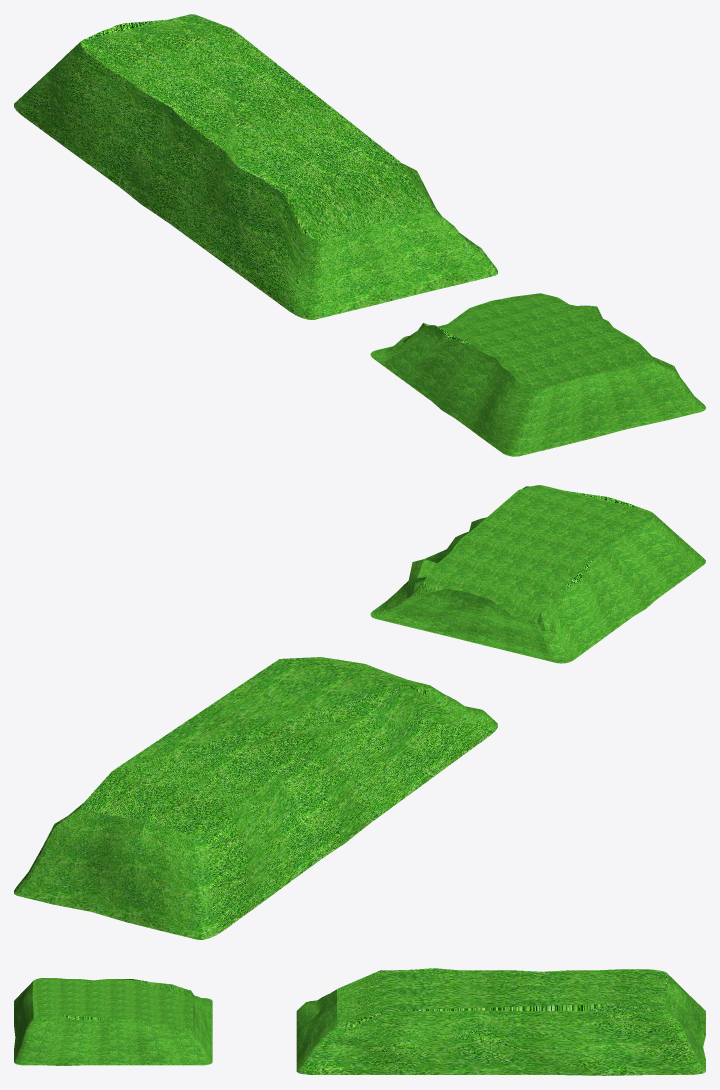
File: montaña.fbx
The picture shows the model from 3 angles, top to bottom: view 1: azimuth 30°, elevation 25°; view 2: azimuth 150°, elevation 25°; view 3: azimuth 270°, elevation 25°; orthographic projection. The views are drawn at different scales.
Parts seen in each view (by area): view 1: Cube.064, Cube.006; view 2: Cube.064, Cube.006; view 3: Cube.064, Cube.006.
Part boxes in pixels (bbox=[...]): Cube.064: bbox=[14, 14, 497, 319]; Cube.006: bbox=[370, 293, 705, 456]; Cube.064: bbox=[14, 657, 497, 939]; Cube.006: bbox=[370, 485, 705, 663]; Cube.064: bbox=[296, 968, 705, 1075]; Cube.006: bbox=[14, 978, 212, 1065].
Bounding box in the file's own units: 72.05 × 28.21 × 306.
